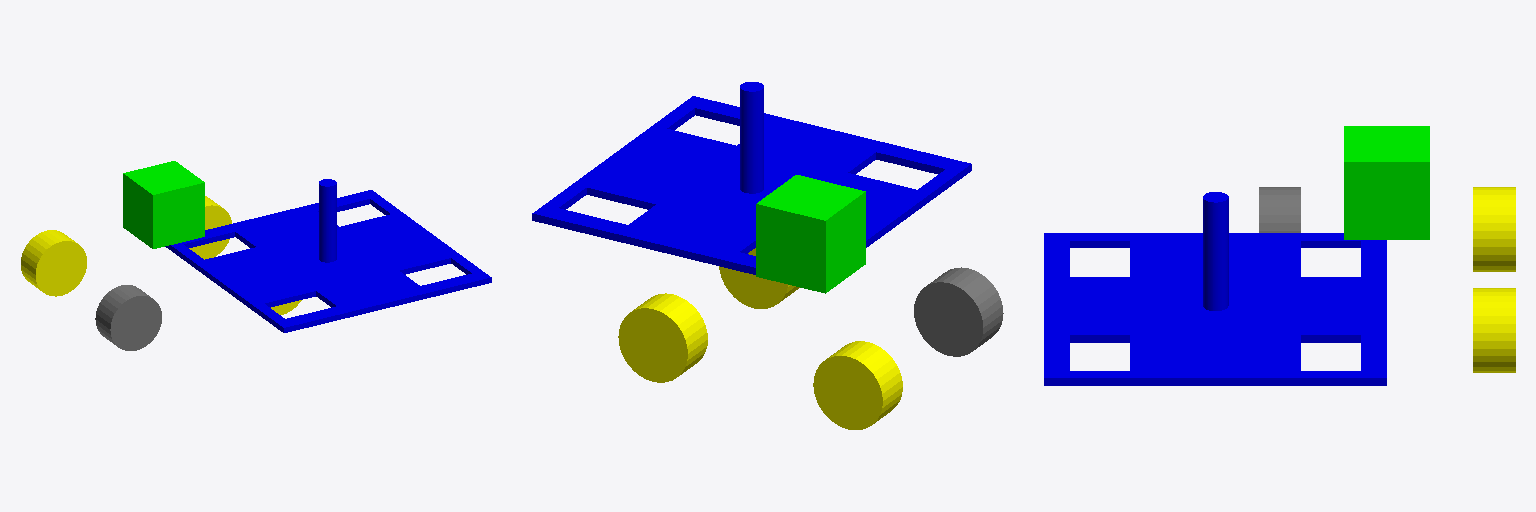
URDF robot description (your_robot_name):
<?xml version="1.0"?>
<robot name="your_robot_name">

  <link name="base_link">
    <visual>
      <geometry>
         <mesh filename="package://baocao/src/meshes/base.stl" scale="0.001 0.001 0.001"/>
        </geometry>
      <material name="blue">
        <color rgba="0 0 1 1"/> </material>
    </visual>
    <collision>
      <geometry>
         <mesh filename="package://baocao/src/meshes/base.stl" scale="0.001 0.001 0.001"/>
      </geometry>
    </collision>
    <inertial>
      <mass value="5"/> 
      <origin xyz="0 0 0" rpy="0 0 0"/> 
      <inertia ixx="0.07083333" ixy="0.0" ixz="0.0" iyy="0.07083333" iyz="0.0" izz="0.13333333"/>     </inertial>
  </link>

  <link name="befor_left_wheel">
    <visual>
      <geometry>
        <cylinder length="0.05" radius="0.05"/> </geometry>
      <material name="red_material">
        <color rgba="1 1 0 1"/> </material>
    </visual>
    <collision>
      <geometry>
        <cylinder length="0.05" radius="0.05"/>
      </geometry>
   <surface>
      <friction>
        <ode>
          <mu>1.0</mu>
          <mu2>1.0</mu2>
        </ode>
      </friction>
    </surface>
    </collision>
    <inertial>
      <mass value="0.1"/>
      <origin xyz="0 0 0" rpy="0 0 0"/>
      <inertia ixx="0.002625" ixy="-0.00225" ixz="0.00075" iyy="0.00256583" iyz="0.00075" izz="0.00456583"/>     
    </inertial>
  </link>

  <joint name="joint_befor_left" type="continuous"> <parent link="base_link"/>
    <child link="befor_left_wheel"/>
    <origin xyz="0.14 0.125 -0.05" rpy="0 1.570796 1.570796"/> <axis xyz="0 0 1"/> 
  </joint>

  <link name="befor_right_wheel">
    <visual>
      <geometry>
        <cylinder length="0.05" radius="0.05"/>
      </geometry>
      <material name="green_material">
        <color rgba="1 1 0 1"/> </material>
    </visual>
    <collision>
      <geometry>
        <cylinder length="0.05" radius="0.05"/>
      </geometry>
    <surface>
      <friction>
        <ode>
          <mu>1.0</mu>
          <mu2>1.0</mu2>
        </ode>
      </friction>
    </surface>
    </collision>
    <inertial>
      <mass value="0.1"/>
      <origin xyz="0 0 0" rpy="0 0 0"/>
      <inertia ixx="0.002625" ixy="-0.00225" ixz="0.00075" iyy="0.00256583" iyz="0.00075" izz="0.00456583"/>     
    </inertial>
  </link>

  <joint name="joint_befor_right" type="continuous">
    <parent link="base_link"/>
    <child link="befor_right_wheel"/>
    <origin xyz="0.14 -0.125 -0.05" rpy="0 1.570796 1.570796"/>
    <axis xyz="0 0 1"/>
  </joint>

  <link name="after_left_wheel">
    <visual>
      <geometry>
        <cylinder length="0.05" radius="0.05"/>
      </geometry>
      <material name="yellow_material">
        <color rgba="1 1 0 1"/> </material>
    </visual>
    <collision>
      <geometry>
        <cylinder length="0.05" radius="0.05"/>
      </geometry>
       <surface>
      <friction>
        <ode>
          <mu>1.0</mu>
          <mu2>1.0</mu2>
        </ode>
      </friction>
    </surface>
    </collision>
    <inertial>
      <mass value="0.1"/>
      <origin xyz="0 0 0" rpy="0 0 0"/>
      <inertia ixx="0.002625" ixy="-0.00225" ixz="0.00075" iyy="0.00256583" iyz="0.00075" izz="0.00456583"/>     
    </inertial>
  </link>

  <joint name="joint_after_left" type="continuous">
    <parent link="base_link"/>
    <child link="after_left_wheel"/>
    <origin xyz="-0.14 0.125 -0.05" rpy="0 1.570796 1.570796"/>
    <axis xyz="0 0 1"/>
  </joint>

  <link name="after_right_wheel">
    <visual>
      <geometry>
        <cylinder length="0.05" radius="0.05"/>
      </geometry>
      <material name="grey_material">
        <color rgba="0.5 0.5 0.5 1"/> </material>
    </visual>
    <collision>
      <geometry>
        <cylinder length="0.05" radius="0.05"/>
      </geometry>
     <surface>
      <friction>
        <ode>
          <mu>1.0</mu>
          <mu2>1.0</mu2>
        </ode>
      </friction>
    </surface>
    </collision>
    <inertial>
      <mass value="0.1"/>
      <origin xyz="0 0 0" rpy="0 0 0"/>
      <inertia ixx="0.002625" ixy="-0.00225" ixz="0.00075" iyy="0.00256583" iyz="0.00075" izz="0.00456583"/>     
    </inertial>
  </link>

  <joint name="joint_after_right" type="continuous">
    <parent link="base_link"/>
    <child link="after_right_wheel"/>
    <origin xyz="-0.14 -0.125 -0.05" rpy="0 1.570796 1.570796"/> <axis xyz="0 0 1"/>
  </joint>

  <link name="lidar_link">
        <visual>
            <geometry>
                <box size="0.1 0.1 0.05"/>
            </geometry>
            <material name ="lidar">
                <color rgba="0.0 1.0 0.0 1.0"/>
            </material>
        </visual>
        <collision>
            <geometry>
                <box size="0.1 0.1 0.05"/>
            </geometry>
        </collision>
        <inertial>
            <mass value="0.1"/>          
            <inertia ixx="0.0001042" iyy="0.0001042" izz="0.0001667" ixy="0.0" ixz="0.0" iyz="0.0"/>
        </inertial>
        <origin xyz="0 0 0.15"/>
    </link>

    <joint name="lidar_joint" type="fixed">
        <parent link="base_link"/>
        <child link="lidar_link"/>
        <origin xyz="0 0 0.05"/>
    </joint>

    <gazebo reference="lidar_link">
        <sensor type="ray" name="lidar_sensor">
            <update_rate>10</update_rate>
            <ray>
                <scan>
                    <horizontal>
                        <samples>360</samples>
                        <resolution>1.0</resolution>
                        <min_angle>-1.57</min_angle>
                        <max_angle>1.57</max_angle>
                    </horizontal>
                </scan>
                <range>
                    <min>0.1</min>
                    <max>10.0</max>
                    <resolution>0.01</resolution>
                </range>
            </ray>
            <plugin name="gazebo_ros_laser" filename="libgazebo_ros_laser.so">
                <topicName>/scan</topicName>
                <frameName>lidar_link</frameName>
            </plugin>
        </sensor>
    </gazebo>
  

  <link name="camera_link">
        <visual>
            <geometry>
                <box size="0.1 0.1 0.05"/>
            </geometry>
            <material name ="camera">
                <color rgba="0.0 1.0 0.0 1.0"/>
            </material>
        </visual>
        <collision>
            <geometry>
                <box size="0.1 0.1 0.05"/>
            </geometry>
        </collision>
        <inertial>
            <mass value="0.1"/>          
            <inertia ixx="0.0001042" iyy="0.0001042" izz="0.0001667" ixy="0.0" ixz="0.0" iyz="0.0"/>
        </inertial>
        <origin xyz="0 0 0.15"/>
  </link>

  <joint name="camera_joint" type="fixed">
        <parent link="lidar_link"/>
        <child link="camera_link"/>
        <origin xyz="0 0 0.05"/>
  </joint>

 <gazebo reference="camera_link">
  <sensor type="camera" name="camera_sensor">
    <update_rate>30</update_rate>
    <camera>
      <horizontal_fov>1.3962634</horizontal_fov>
      <image>
        <width>640</width>
        <height>480</height>
        <format>R8G8B8</format>
      </image>
      <clip>
        <near>0.1</near>
        <far>100</far>
      </clip>
    </camera>
    <plugin name="gazebo_ros_camera" filename="libgazebo_ros_camera.so">
      <alwaysOn>true</alwaysOn>
      <updateRate>30</updateRate>
      <cameraName>camera</cameraName>
      <imageTopicName>image_raw</imageTopicName>
      <cameraInfoTopicName>camera_info</cameraInfoTopicName>
      <frameName>camera_link</frameName>
    </plugin>
  </sensor>
 </gazebo>



 <!-- <link name="court"> 
    <visual>
      <geometry>
        <box size="15 8 0.01"/> 
      </geometry>
      <material name="court_color">
       <color rgba="0.75 0.75 0.75 1"/>
      </material>
    </visual>
    <collision>
      <geometry>
        <box size="15 8 0.01"/>
      </geometry>
    </collision>
  </link>

  <link name="cot">
    <visual>
      <geometry>
        <cylinder length="2.43" radius="0.01"/>
      </geometry>
      <material name="court_color">
        <color rgba="0.75 0.75 0.75 1"/>
      </material>    
    </visual>
    <collision>
      <geometry>
        <cylinder length="2.43" radius="0.01"/>
      </geometry>
    </collision>
  </link> 

  
  <joint name="robot_to_court" type="fixed"> 
    <parent link="court"/>
    <child link="base_link"/>
    <origin xyz="-7.3 3.8 0.1" rpy="0 0 0"/>
  </joint>

   
  <joint name="cot_joint" type="fixed"> 
      <parent link="court"/>
      <child link="cot"/>
      <origin xyz="7.5 0 1.215" rpy="0 0 0"/>
  </joint> -->

<gazebo>
    <plugin name="diff_drive" filename="libgazebo_ros_diff_drive.so">
        <!-- Joint Names -->
        <leftJoint>base_to_wheel_front_left</leftJoint>
        <rightJoint>base_to_wheel_front_right</rightJoint>
        <leftJoint>base_to_wheel_rear_left</leftJoint>
        <rightJoint>base_to_wheel_rear_right</rightJoint>

        <!-- Wheel Properties -->
        <wheelSeparation>0.25</wheelSeparation>
        <wheelDiameter>0.05</wheelDiameter>

        <!-- Control Topic -->

        <commandTopic>/cmd_vel</commandTopic>

        <!-- Odometry and Frames -->
        <odometryTopic>/odom</odometryTopic>
        <odometryFrame>odom</odometryFrame>
        <odometrySource>world</odometrySource>
        <robotBaseFrame>base_link</robotBaseFrame>

        <!-- Publish Options -->
        <publishOdomTF>true</publishOdomTF>
        <publishWheelTF>true</publishWheelTF>
        <publishTf>true</publishTf>
        <publishWheelJointState>true</publishWheelJointState>
        <!-- Wheel Dynamics -->
        <wheelAcceleration>10.0</wheelAcceleration>
        <wheelTorque>10.0</wheelTorque>
        <updateRate>100</updateRate>

        <rosDebugLevel>na</rosDebugLevel>
    </plugin>
</gazebo>

</robot>

--- Render facts (derived) ---
Views: 3 orthographic renders of the robot side by side, from view 1: azimuth 30°, elevation 25°; view 2: azimuth 150°, elevation 25°; view 3: azimuth 270°, elevation 25°.
Model your_robot_name with 7 links and 6 joints (4 continuous, 2 fixed), rooted at base_link, posed every joint at zero.
Links seen in each view (by area): view 1: base_link, camera_link, after_right_wheel, after_left_wheel, lidar_link, befor_left_wheel; view 2: base_link, camera_link, befor_left_wheel, after_left_wheel, after_right_wheel, lidar_link, befor_right_wheel; view 3: base_link, camera_link, befor_left_wheel, after_left_wheel, lidar_link, after_right_wheel.
Boxes of the visible links, box(x1,y1,x2,y2) form: base_link: box(165, 179, 491, 332); camera_link: box(123, 161, 204, 221); after_right_wheel: box(95, 285, 161, 350); after_left_wheel: box(21, 230, 86, 296); lidar_link: box(123, 201, 204, 248); befor_left_wheel: box(189, 196, 231, 259); base_link: box(532, 82, 971, 274); camera_link: box(756, 175, 865, 256); befor_left_wheel: box(618, 293, 707, 382); after_left_wheel: box(813, 341, 902, 429); after_right_wheel: box(914, 267, 1003, 356); lidar_link: box(756, 228, 865, 293); befor_right_wheel: box(719, 248, 799, 308); base_link: box(1044, 192, 1386, 385); camera_link: box(1344, 126, 1429, 200); befor_left_wheel: box(1473, 288, 1515, 372); after_left_wheel: box(1473, 187, 1515, 271); lidar_link: box(1344, 201, 1429, 239); after_right_wheel: box(1259, 187, 1300, 232).
Bounding box of the posed robot: 0.59 × 0.55 × 0.25 m (x, y, z).
Meshes: 1 distinct files referenced, 1 mesh visuals loaded (1 binary STL).
